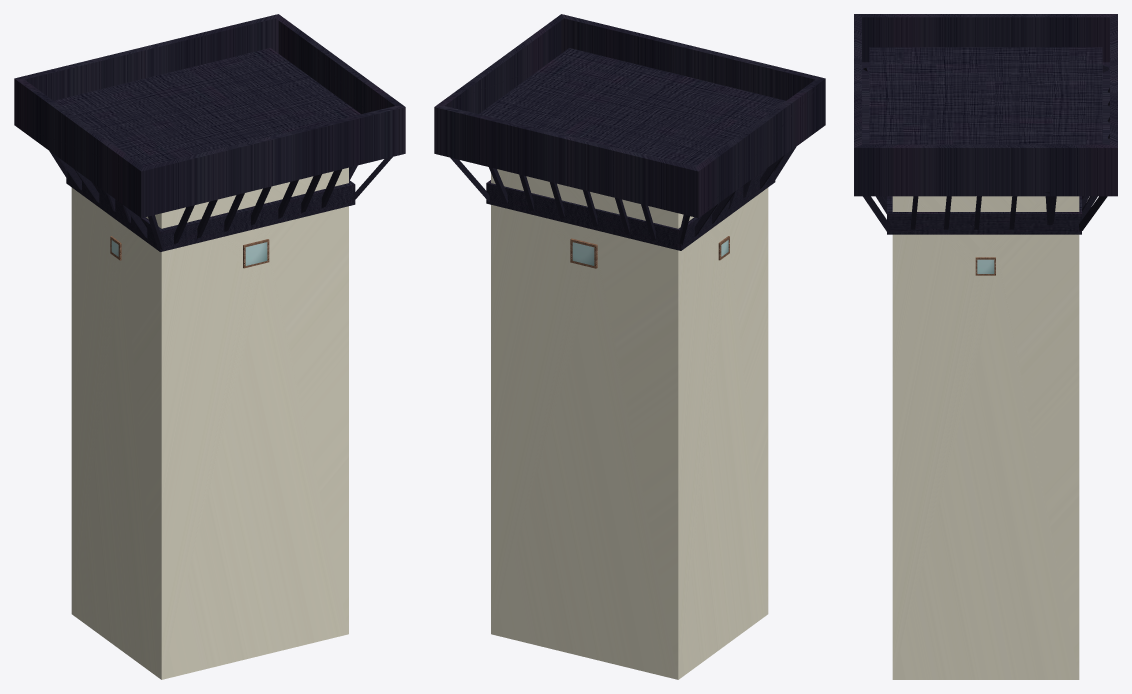
Rendered from Desert building6(05-06).FBX.
The picture shows the model from 3 angles, left to right: view 1: azimuth 30°, elevation 25°; view 2: azimuth 150°, elevation 25°; view 3: azimuth 270°, elevation 25°; orthographic projection. The views are drawn at different scales.
Visible parts, largest first — view 1: Box002; view 2: Box002; view 3: Box002.
Boxes of the visible parts, x1=… form: Box002: x1=14, y1=14, x2=405, y2=679; Box002: x1=434, y1=14, x2=825, y2=679; Box002: x1=854, y1=14, x2=1117, y2=679.
Bounding box in the file's own units: 272 × 521 × 226.
